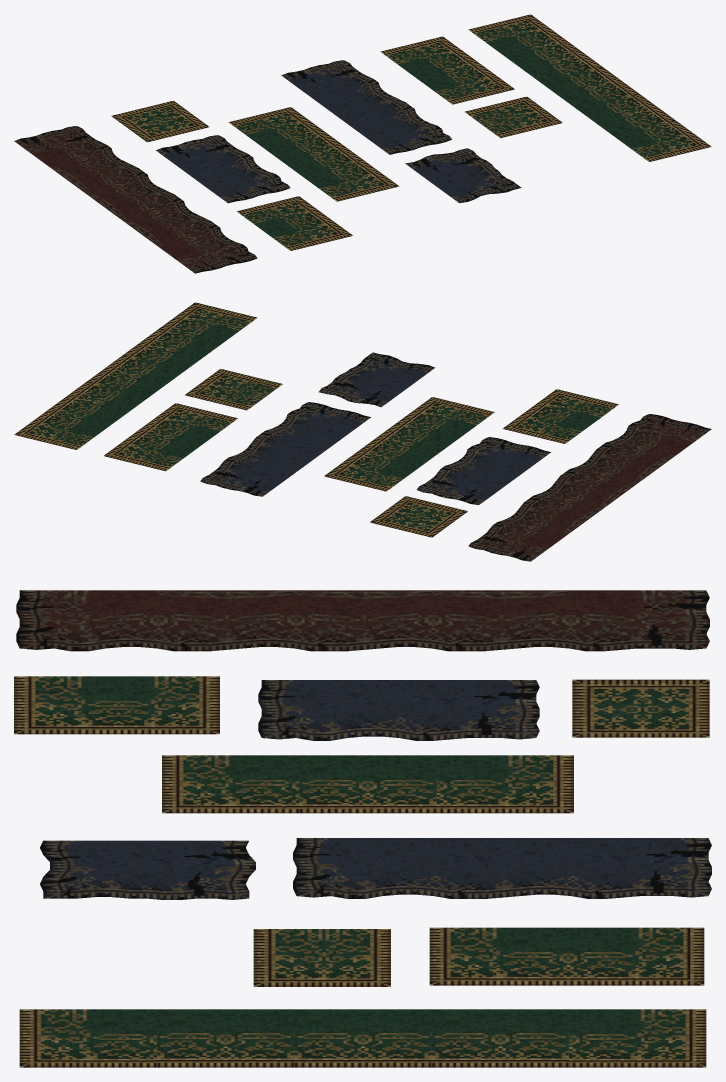
The model's file is EnvMdrMD_Mansion_GrdCpt_B_Start_300W200D.FBX.
3 views of the same model, one above another, from view 1: azimuth 30°, elevation 25°; view 2: azimuth 150°, elevation 25°; view 3: azimuth 270°, elevation 25° (orthographic). The views are drawn at different scales.
Visible parts, largest first — view 1: EnvMdrMD_Mansion_GrdCpt_B_Start_1000W200D, EnvMdrMD_Mansion_GrdCpt_B_Start_Straight_1000W200D_NoLine, EnvMdrMD_Mansion_GrdCpt_B_Start_600W200D, EnvMdrMD_Mansion_GrdCpt_B_Start_Straight_600W200D, EnvMdrMD_Mansion_GrdCpt_B_Start_400W200D, EnvMdrMD_Mansion_GrdCpt_B_Start_Straight_400W200D, EnvMdrMD_Mansion_GrdCpt_B_Start_300W200D, EnvMdrMD_Mansion_GrdCpt_B_Start_Straight_300W200D, EnvMdrMD_Mansion_GrdCpt_B_Straight_200W200D, EnvMdrMD_Mansion_GrdCpt_B_Start_Straight_200W200D; view 2: EnvMdrMD_Mansion_GrdCpt_B_Start_1000W200D, EnvMdrMD_Mansion_GrdCpt_B_Start_Straight_1000W200D_NoLine, EnvMdrMD_Mansion_GrdCpt_B_Start_600W200D, EnvMdrMD_Mansion_GrdCpt_B_Start_Straight_600W200D, EnvMdrMD_Mansion_GrdCpt_B_Start_400W200D, EnvMdrMD_Mansion_GrdCpt_B_Start_Straight_400W200D, EnvMdrMD_Mansion_GrdCpt_B_Start_300W200D, EnvMdrMD_Mansion_GrdCpt_B_Start_Straight_300W200D, EnvMdrMD_Mansion_GrdCpt_B_Start_Straight_200W200D, EnvMdrMD_Mansion_GrdCpt_B_Straight_200W200D; view 3: EnvMdrMD_Mansion_GrdCpt_B_Start_1000W200D, EnvMdrMD_Mansion_GrdCpt_B_Start_Straight_1000W200D_NoLine, EnvMdrMD_Mansion_GrdCpt_B_Start_600W200D, EnvMdrMD_Mansion_GrdCpt_B_Start_Straight_600W200D, EnvMdrMD_Mansion_GrdCpt_B_Start_400W200D, EnvMdrMD_Mansion_GrdCpt_B_Start_Straight_400W200D, EnvMdrMD_Mansion_GrdCpt_B_Start_300W200D, EnvMdrMD_Mansion_GrdCpt_B_Start_Straight_300W200D, EnvMdrMD_Mansion_GrdCpt_B_Straight_200W200D, EnvMdrMD_Mansion_GrdCpt_B_Start_Straight_200W200D.
Part boxes in pixels (x1=…): EnvMdrMD_Mansion_GrdCpt_B_Start_1000W200D: x1=14, y1=126, x2=257, y2=273; EnvMdrMD_Mansion_GrdCpt_B_Start_Straight_1000W200D_NoLine: x1=468, y1=14, x2=711, y2=161; EnvMdrMD_Mansion_GrdCpt_B_Start_600W200D: x1=281, y1=60, x2=451, y2=154; EnvMdrMD_Mansion_GrdCpt_B_Start_Straight_600W200D: x1=228, y1=107, x2=399, y2=201; EnvMdrMD_Mansion_GrdCpt_B_Start_400W200D: x1=156, y1=135, x2=290, y2=203; EnvMdrMD_Mansion_GrdCpt_B_Start_Straight_400W200D: x1=380, y1=36, x2=514, y2=104; EnvMdrMD_Mansion_GrdCpt_B_Start_300W200D: x1=405, y1=148, x2=521, y2=202; EnvMdrMD_Mansion_GrdCpt_B_Start_Straight_300W200D: x1=237, y1=196, x2=352, y2=250; EnvMdrMD_Mansion_GrdCpt_B_Straight_200W200D: x1=111, y1=100, x2=209, y2=142; EnvMdrMD_Mansion_GrdCpt_B_Start_Straight_200W200D: x1=464, y1=96, x2=562, y2=138; EnvMdrMD_Mansion_GrdCpt_B_Start_1000W200D: x1=468, y1=414, x2=711, y2=561; EnvMdrMD_Mansion_GrdCpt_B_Start_Straight_1000W200D_NoLine: x1=14, y1=302, x2=257, y2=449; EnvMdrMD_Mansion_GrdCpt_B_Start_600W200D: x1=200, y1=402, x2=370, y2=496; EnvMdrMD_Mansion_GrdCpt_B_Start_Straight_600W200D: x1=324, y1=397, x2=494, y2=491; EnvMdrMD_Mansion_GrdCpt_B_Start_400W200D: x1=416, y1=437, x2=550, y2=504; EnvMdrMD_Mansion_GrdCpt_B_Start_Straight_400W200D: x1=104, y1=403, x2=237, y2=471; EnvMdrMD_Mansion_GrdCpt_B_Start_300W200D: x1=318, y1=352, x2=434, y2=407; EnvMdrMD_Mansion_GrdCpt_B_Start_Straight_300W200D: x1=502, y1=389, x2=618, y2=443; EnvMdrMD_Mansion_GrdCpt_B_Start_Straight_200W200D: x1=184, y1=368, x2=282, y2=410; EnvMdrMD_Mansion_GrdCpt_B_Straight_200W200D: x1=370, y1=496, x2=467, y2=537; EnvMdrMD_Mansion_GrdCpt_B_Start_1000W200D: x1=16, y1=590, x2=709, y2=651; EnvMdrMD_Mansion_GrdCpt_B_Start_Straight_1000W200D_NoLine: x1=19, y1=1009, x2=706, y2=1067; EnvMdrMD_Mansion_GrdCpt_B_Start_600W200D: x1=293, y1=838, x2=711, y2=898; EnvMdrMD_Mansion_GrdCpt_B_Start_Straight_600W200D: x1=162, y1=755, x2=573, y2=813; EnvMdrMD_Mansion_GrdCpt_B_Start_400W200D: x1=258, y1=680, x2=539, y2=740; EnvMdrMD_Mansion_GrdCpt_B_Start_Straight_400W200D: x1=429, y1=927, x2=704, y2=985; EnvMdrMD_Mansion_GrdCpt_B_Start_300W200D: x1=40, y1=840, x2=255, y2=899; EnvMdrMD_Mansion_GrdCpt_B_Start_Straight_300W200D: x1=14, y1=676, x2=219, y2=734; EnvMdrMD_Mansion_GrdCpt_B_Straight_200W200D: x1=572, y1=679, x2=709, y2=737; EnvMdrMD_Mansion_GrdCpt_B_Start_Straight_200W200D: x1=253, y1=929, x2=390, y2=986.
Size of the model in its own units: 1648 by 2 by 1016.
3 materials, 3 textured.
